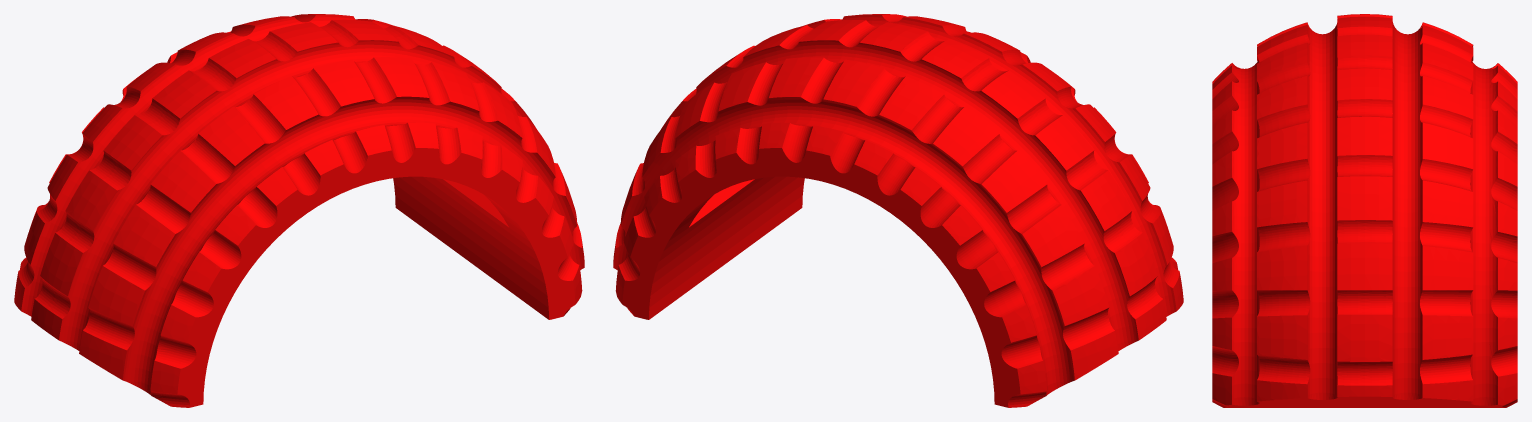
File: V1.02_Foot(Mirror).dae
3 views of the same model, side by side, from view 1: azimuth 30°, elevation 25°; view 2: azimuth 150°, elevation 25°; view 3: azimuth 270°, elevation 25° (orthographic).
Parts seen in each view (by area): view 1: V1.02_Foot(Mirror); view 2: V1.02_Foot(Mirror); view 3: V1.02_Foot(Mirror).
Boxes of the visible parts, x1,y1,x2,y2 form: V1.02_Foot(Mirror): (14, 14, 584, 407); V1.02_Foot(Mirror): (613, 14, 1183, 407); V1.02_Foot(Mirror): (1212, 14, 1517, 407).
Size of the model in its own units: 38.49 by 20 by 19.45.
